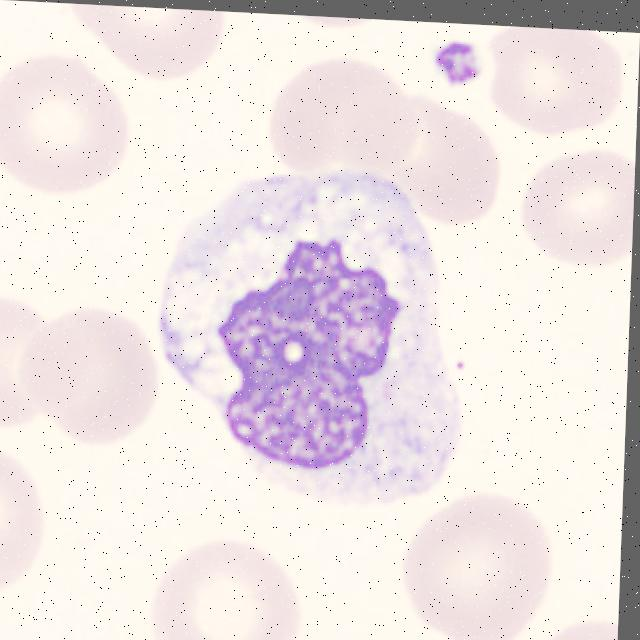monocyte: (138, 161, 479, 526)
platelets: (428, 41, 482, 89)
rbc: (404, 495, 553, 640), (273, 62, 414, 187), (0, 55, 126, 194), (37, 307, 156, 447), (488, 26, 620, 138), (154, 547, 308, 640), (388, 97, 494, 225), (514, 152, 635, 264), (73, 4, 218, 79), (0, 304, 79, 419), (0, 455, 51, 593), (528, 618, 618, 640), (302, 16, 386, 29)
